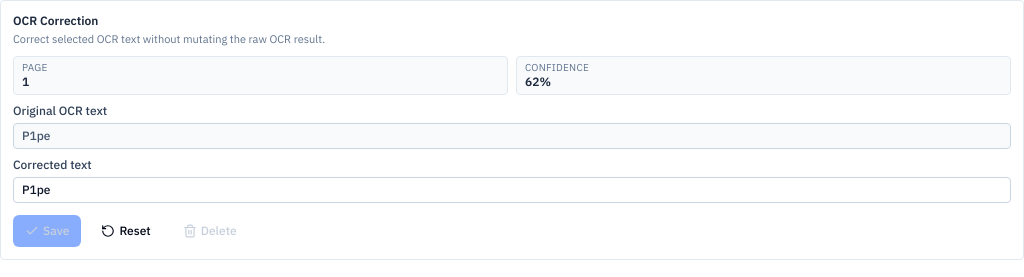
OcrCorrectionPanel › disables save when corrected text is unchanged
Check: the button with test id "ocr-correction-save" is disabled, box [13,215,81,247]
Replace the text in the field with test id "ocr-correction-input" with "Pipe" at [512, 190], box [13,177,1011,203]
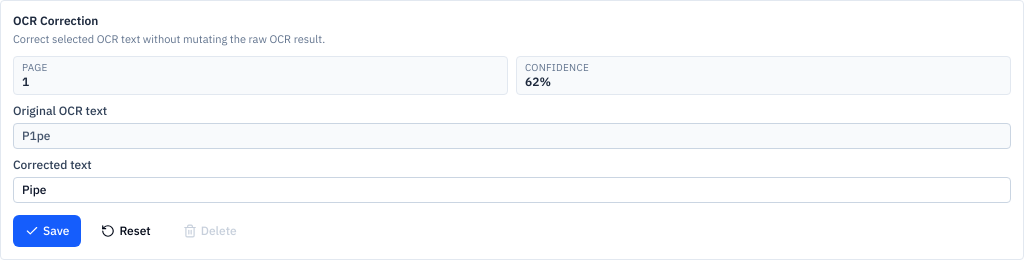
Check: the button with test id "ocr-correction-save" is enabled, box [13,215,81,247]
